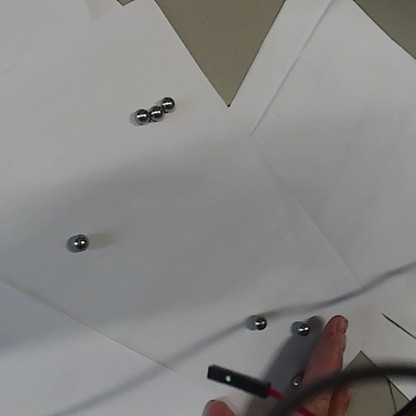ironball: (251, 314, 270, 331), (133, 105, 148, 125), (71, 231, 87, 249), (294, 318, 309, 336), (289, 371, 302, 388), (149, 104, 162, 120), (161, 95, 174, 110)
